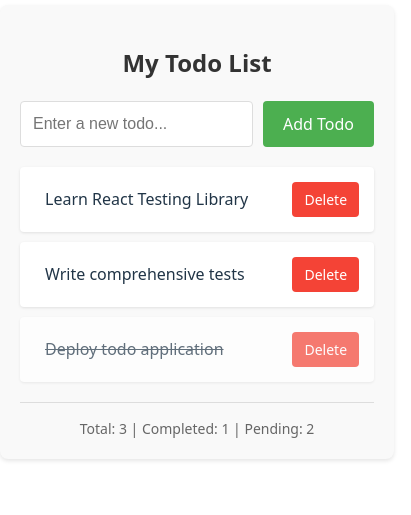
Scenario: TodoList Component › adds a new todo when form is submitted
The image size is (411, 515).
Type "New test todo" into the field with test id "todo-input" at (136, 124), box [20,101,253,147]
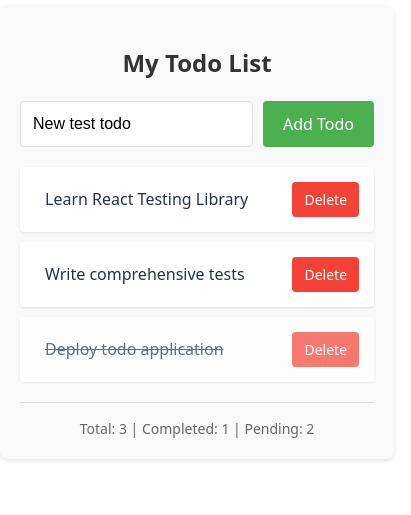
Click the button with test id "add-button" at (318, 124), box [263,101,374,147]
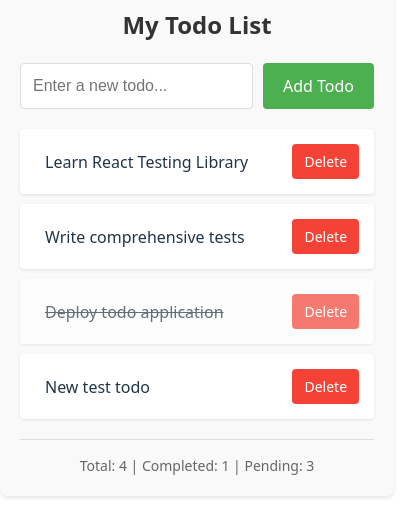
Result: the text "New test todo" is shown at [45,376,150,398]
Result: the text "Total: 4 | Completed: 1 | Pending: 3" is shown at [80,456,314,476]
